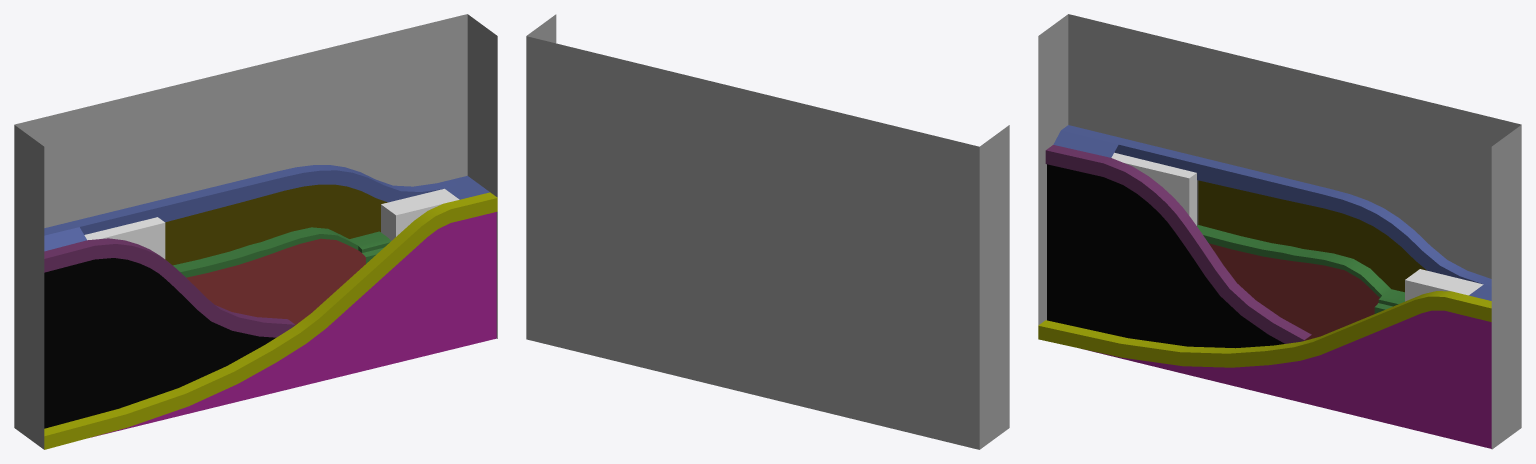
Rendered from Prototipo level 1.fbx.
3 renders of one model, left to right at view 1: azimuth 30°, elevation 25°; view 2: azimuth 150°, elevation 25°; view 3: azimuth 330°, elevation 25°, orthographic.
Parts seen in each view (by area): view 1: pCube3, pCube6, pCube7, pPlane7, pCube4, pCube5, pPlane6, pPlane8, pPlane5, pCube1, pCube2; view 2: pCube3; view 3: pCube3, pCube6, pCube7, pCube4, pPlane6, pPlane7, pCube5, pPlane8, pPlane5, pCube2, pCube1.
Part boxes in pixels (bbox=[...]): pCube3: bbox=[14, 14, 497, 449]; pCube6: bbox=[44, 258, 275, 428]; pCube7: bbox=[91, 212, 496, 437]; pPlane7: bbox=[44, 192, 497, 449]; pCube4: bbox=[165, 184, 387, 265]; pCube5: bbox=[186, 238, 365, 324]; pPlane6: bbox=[44, 165, 489, 251]; pPlane8: bbox=[44, 238, 295, 337]; pPlane5: bbox=[173, 227, 390, 277]; pCube1: bbox=[381, 188, 459, 240]; pCube2: bbox=[84, 217, 165, 258]; pCube3: bbox=[526, 14, 1009, 449]; pCube3: bbox=[1038, 14, 1521, 449]; pCube6: bbox=[1047, 164, 1284, 348]; pCube7: bbox=[1082, 310, 1491, 448]; pCube4: bbox=[1198, 180, 1426, 292]; pPlane6: bbox=[1053, 125, 1491, 300]; pPlane7: bbox=[1038, 291, 1491, 367]; pCube5: bbox=[1209, 243, 1379, 340]; pPlane8: bbox=[1045, 145, 1311, 343]; pPlane5: bbox=[1197, 225, 1404, 313]; pCube2: bbox=[1111, 152, 1196, 225]; pCube1: bbox=[1405, 269, 1483, 301].
Bounding box in the file's own units: 34.66 × 22.15 × 4.
